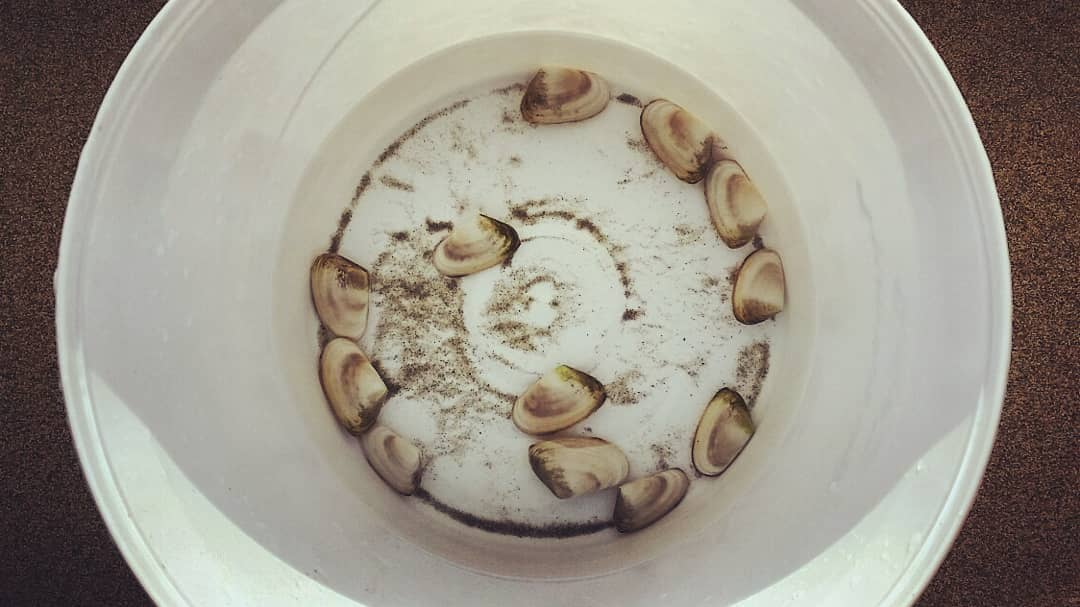tuatua: (507, 361, 618, 437), (640, 92, 726, 182), (317, 336, 393, 436), (424, 211, 524, 285), (704, 153, 771, 258), (305, 248, 375, 343), (527, 437, 632, 499), (516, 63, 617, 125), (691, 387, 757, 477), (610, 466, 699, 532), (731, 243, 799, 329), (361, 422, 427, 499)
